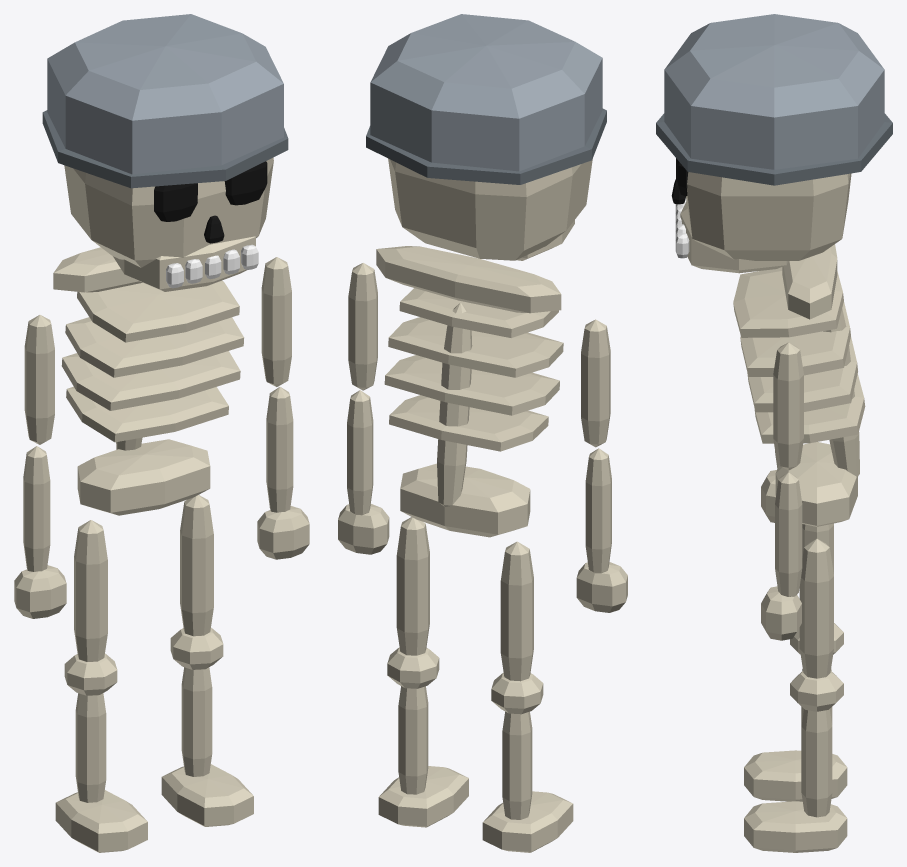
The model's file is mon-skeleton-3.glb.
3 renders of one model, left to right at view 1: azimuth 30°, elevation 25°; view 2: azimuth 150°, elevation 25°; view 3: azimuth 270°, elevation 25°, orthographic.
Visible parts, largest first — view 1: head, torso, leg-right, leg-left, arm-left, arm-right; view 2: head, torso, leg-right, leg-left, arm-right, arm-left; view 3: head, torso, leg-left, arm-left, leg-right, arm-right.
Part boxes in pixels (<box>): head: <box>42,14,288,291</box>; torso: <box>53,247,244,515</box>; leg-right: <box>55,520,147,852</box>; leg-left: <box>161,495,253,826</box>; arm-left: <box>257,257,309,559</box>; arm-right: <box>14,315,66,618</box>; head: <box>366,14,606,260</box>; torso: <box>376,246,563,537</box>; leg-right: <box>482,541,573,852</box>; leg-left: <box>378,517,468,827</box>; arm-right: <box>576,319,627,612</box>; arm-left: <box>338,263,389,554</box>; head: <box>656,14,892,273</box>; torso: <box>733,244,865,526</box>; leg-left: <box>744,539,847,852</box>; arm-left: <box>761,342,803,640</box>; leg-right: <box>744,523,847,801</box>; arm-right: <box>761,451,778,522</box>.
Size of the model in its own units: 0.9345 by 2.41 by 0.6698.
